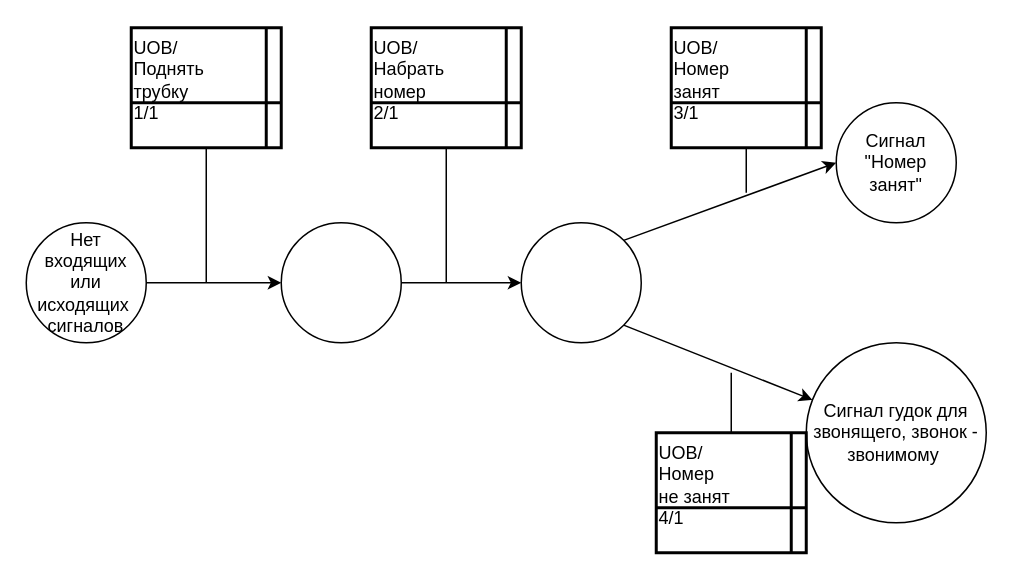
This 1013x579 diagram has some shape labels left out. Here are the shapes that lost their labels. From the top down, the centre of each, then its label:
pixel 340 282: Выходящий сигнал "Тон"
pixel 580 282: Проверка целевого номера
